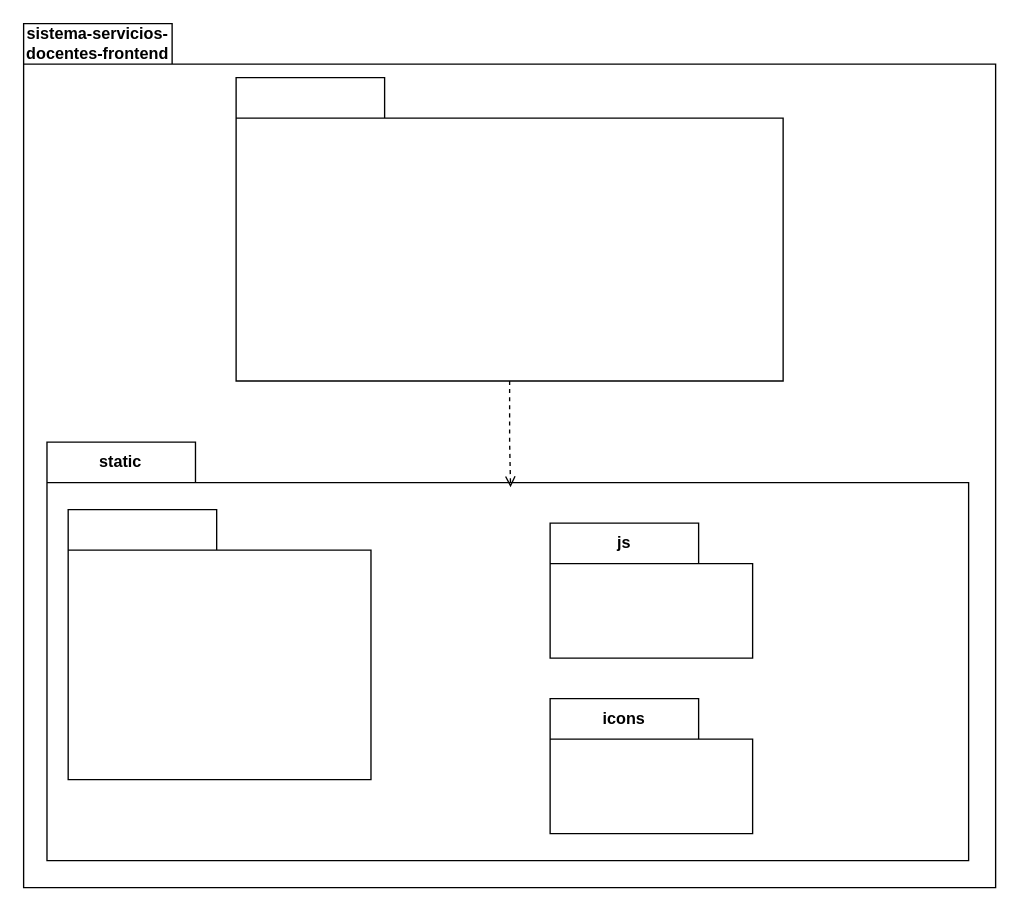
Some shapes in this 1019 by 911 pixel diagram are drawn without their labels. Each missing label, with the centre of its shape:
css: the point at 219,644
templates: the point at 509,228
